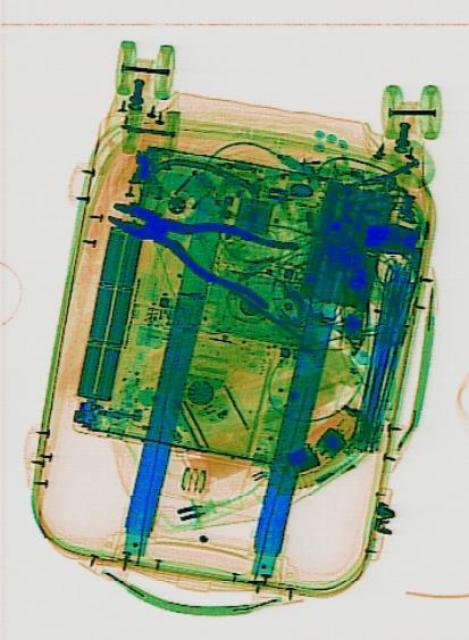Pliers: (96, 170, 297, 316)
